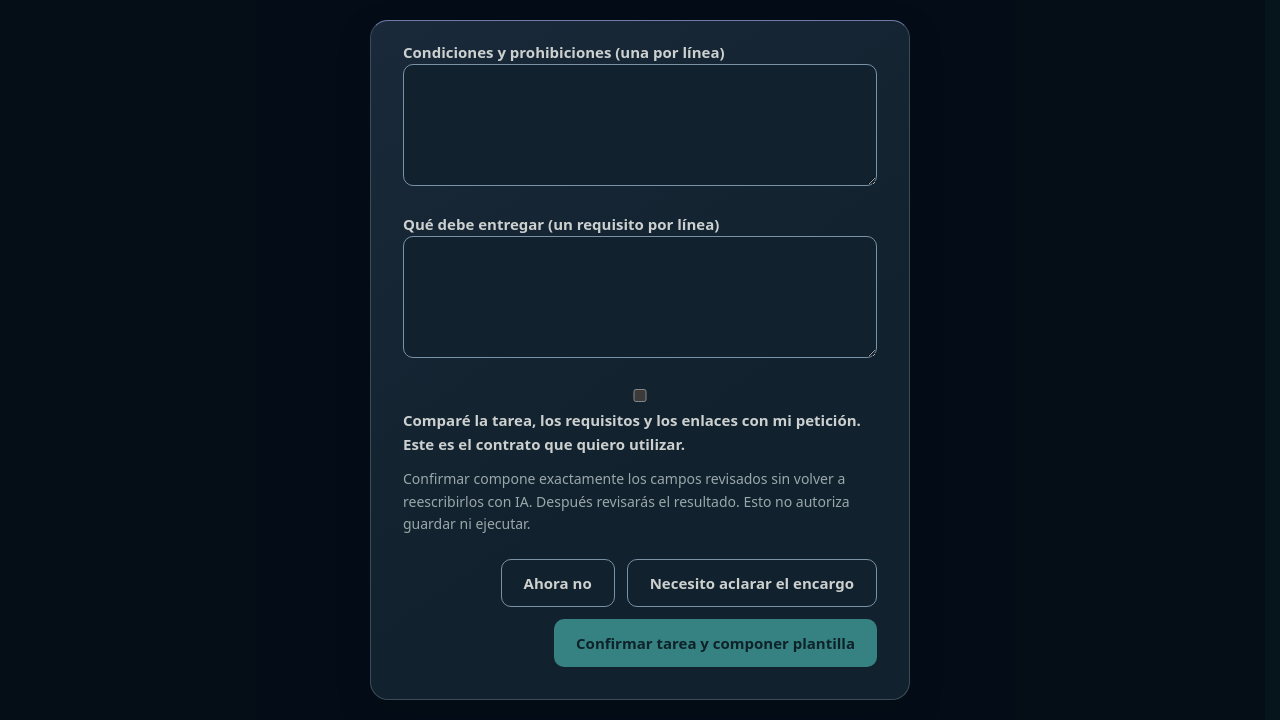
Test: keeps established requirements selected until the user explicitly applies and reviews a suggestion
The width and height of the screenshot is (1280, 720).
Later steps or results of the test are not shown.
(page scrolled)
Click the checkbox: point(640, 396) [403,389,877,402]
(page scrolled)
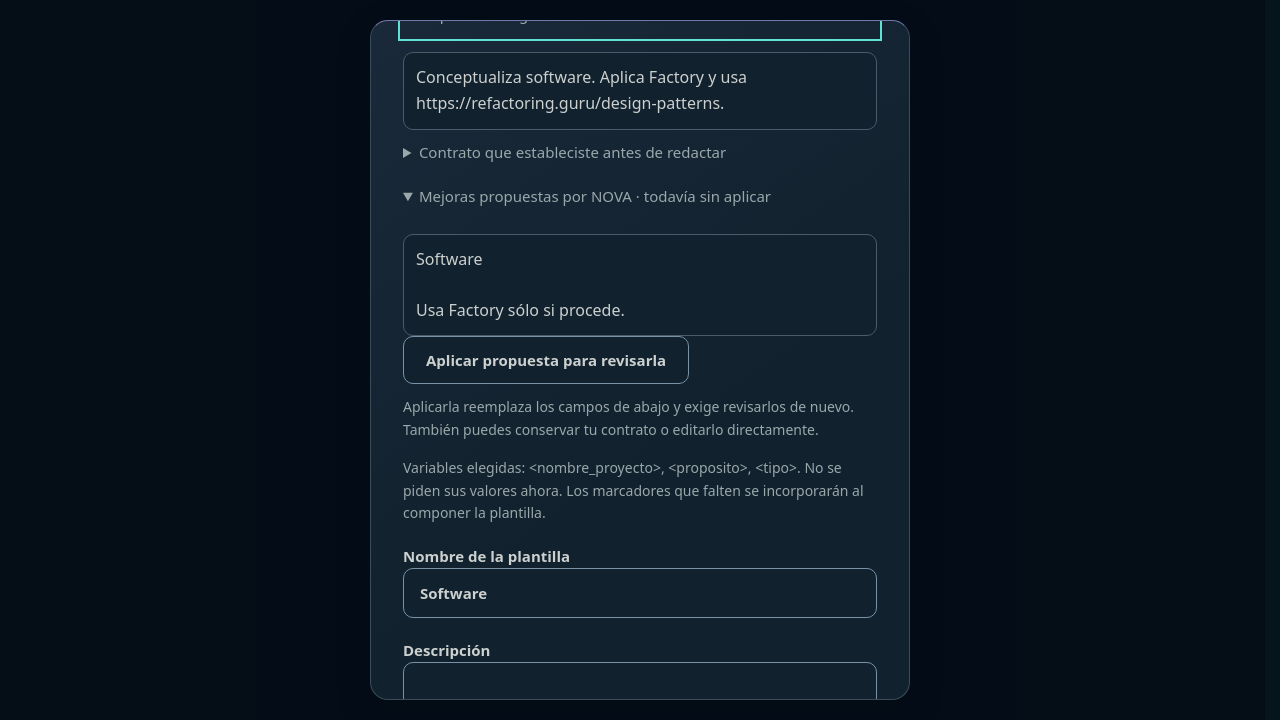
Click the button "Aplicar propuesta para revisarla": point(546, 360) [403,336,689,384]
(page scrolled)
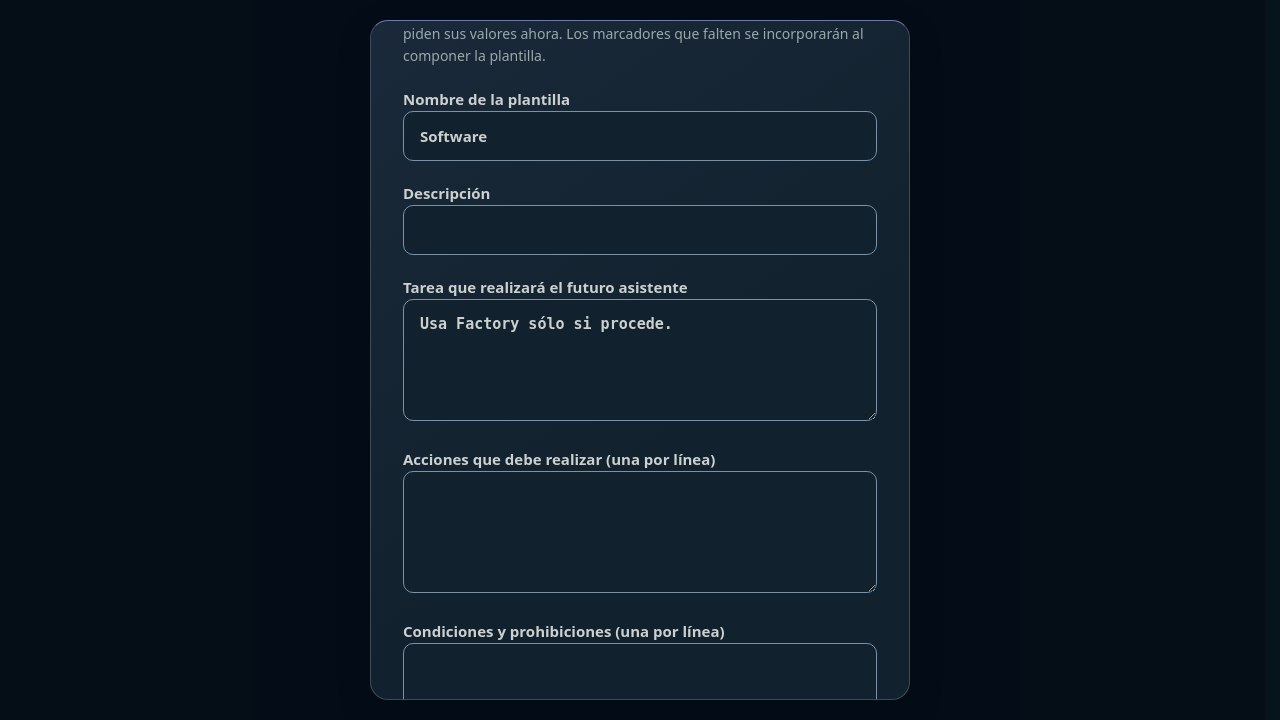
expect the text box labelled "Tarea que realizará el futuro asistente" holds "Usa Factory sólo si procede.": met, box [403,299,877,421]
